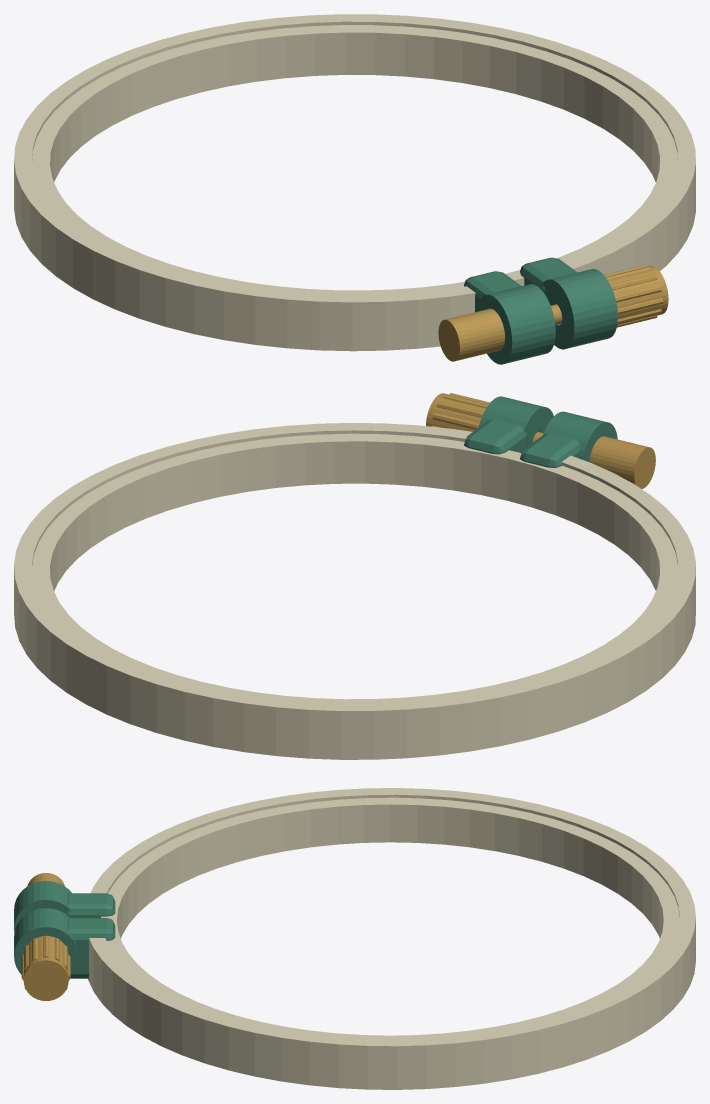
The model's file is full.glb.
3 renders of one model, top to bottom at view 1: azimuth 30°, elevation 25°; view 2: azimuth 150°, elevation 25°; view 3: azimuth 270°, elevation 25°, orthographic. The views are drawn at different scales.
Visible parts, largest first — view 1: Split outer band, Continuous inner band, Clamp screw sleeve 1, Clamp screw sleeve -1, Captive screw nut, Ribbed adjustment knob, Clamp curved mounting foot 1, Clamp curved mounting foot -1; view 2: Split outer band, Continuous inner band, Captive screw nut, Clamp screw sleeve 1, Clamp screw sleeve -1, Clamp curved mounting foot 1, Clamp curved mounting foot -1, Ribbed adjustment knob; view 3: Split outer band, Continuous inner band, Ribbed adjustment knob, Clamp screw sleeve 1, Clamp screw sleeve -1, Clamp curved mounting foot 1, Clamp curved mounting foot -1.
Boxes of the visible parts, x1,y1,x2,y2 form: Split outer band: [14, 14, 695, 351]; Continuous inner band: [32, 25, 677, 294]; Clamp screw sleeve 1: [542, 269, 617, 349]; Clamp screw sleeve -1: [476, 284, 555, 364]; Captive screw nut: [438, 308, 504, 361]; Ribbed adjustment knob: [606, 265, 668, 324]; Clamp curved mounting foot 1: [520, 257, 577, 295]; Clamp curved mounting foot -1: [464, 271, 521, 312]; Split outer band: [14, 423, 695, 759]; Continuous inner band: [32, 433, 677, 703]; Captive screw nut: [589, 436, 655, 488]; Clamp screw sleeve 1: [478, 396, 553, 446]; Clamp screw sleeve -1: [543, 411, 617, 461]; Clamp curved mounting foot 1: [464, 419, 527, 454]; Clamp curved mounting foot -1: [520, 433, 579, 467]; Ribbed adjustment knob: [426, 393, 488, 431]; Split outer band: [88, 788, 695, 1089]; Continuous inner band: [101, 797, 679, 1039]; Ribbed adjustment knob: [23, 936, 68, 1000]; Clamp screw sleeve 1: [14, 908, 78, 974]; Clamp screw sleeve -1: [14, 881, 71, 932]; Clamp curved mounting foot 1: [67, 918, 115, 978]; Clamp curved mounting foot -1: [66, 893, 115, 917].
Bounding box in the file's own units: 0.1899 × 0.02 × 0.212.
